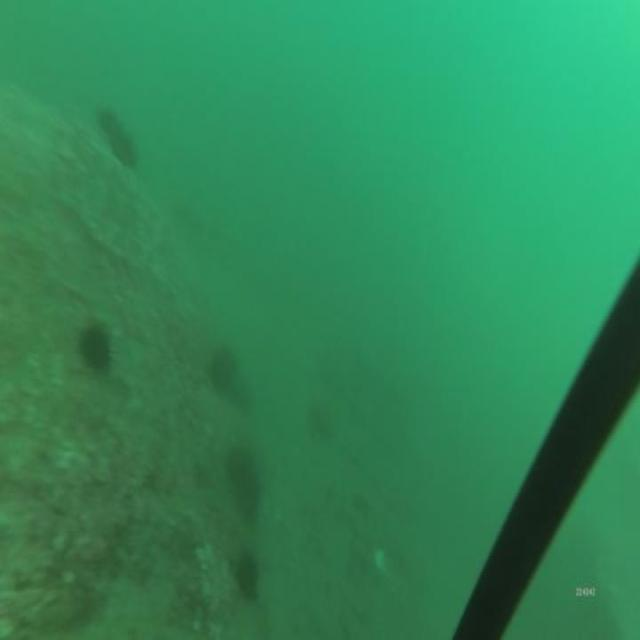echinus: (96, 100, 140, 176), (226, 441, 261, 526), (76, 314, 116, 382), (204, 336, 239, 399), (233, 546, 263, 608), (305, 394, 334, 444)
